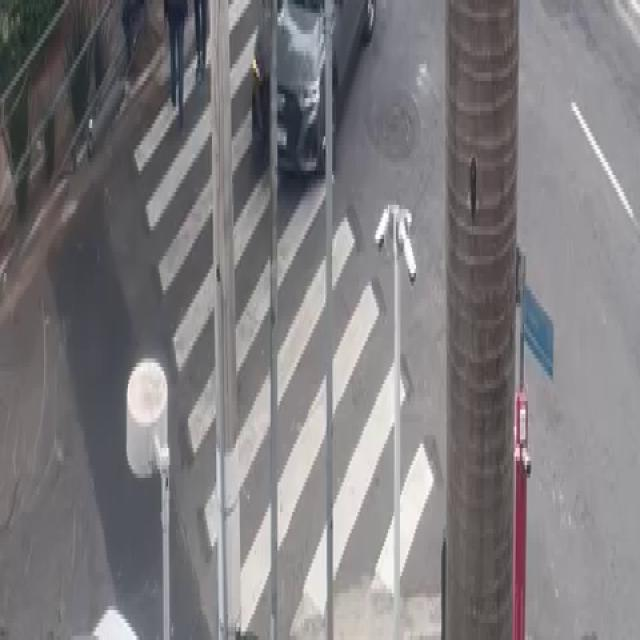car: (240, 0, 385, 192)
